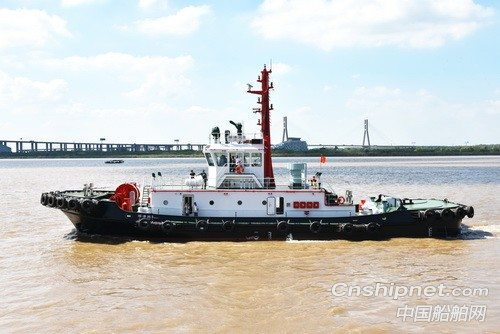otherboat: (37, 93, 474, 249)
